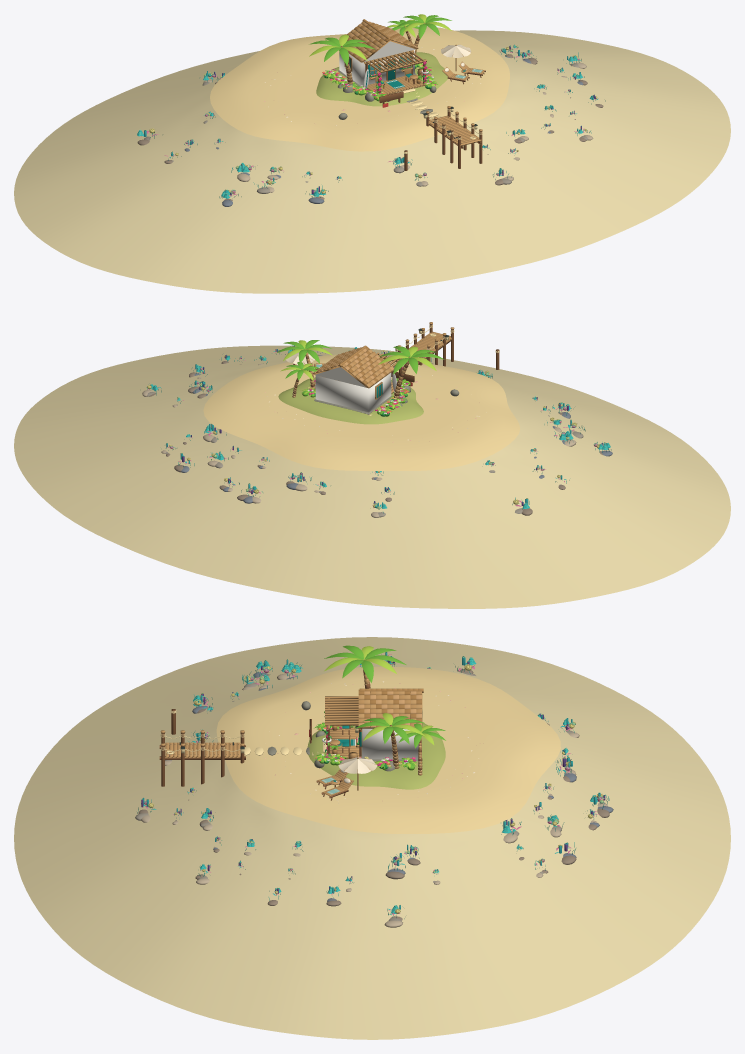
File: atoll_world.glb
3 views of the same model, one above another, from view 1: azimuth 30°, elevation 25°; view 2: azimuth 150°, elevation 25°; view 3: azimuth 270°, elevation 25° (orthographic). The views are drawn at different scales.
Visible parts, largest first — view 1: Submerged sand, Warm lagoon sand, Honey wood, Island ground, Palm leaf, Dark wood, Sun bleached plaster, Palm lime, Coral aqua, Nowsome teal, Sunlit sand, Reef rock sandstone (+1 smaller); view 2: Submerged sand, Warm lagoon sand, Island ground, Sun bleached plaster, Palm leaf, Honey wood, Dark wood, Palm lime, Coral aqua, Reef rock sandstone, Reef rock brown, Coral yellow (+4 smaller); view 3: Submerged sand, Warm lagoon sand, Honey wood, Island ground, Palm leaf, Dark wood, Sun bleached plaster, Palm lime, Coral aqua, Reef rock sandstone, Reef rock brown, Coral yellow (+2 smaller).
Boxes of the visible parts, bbox=[...] form: Submerged sand: bbox=[14, 30, 730, 293]; Warm lagoon sand: bbox=[210, 26, 509, 151]; Honey wood: bbox=[341, 23, 484, 146]; Island ground: bbox=[316, 52, 447, 106]; Palm leaf: bbox=[309, 15, 451, 101]; Dark wood: bbox=[344, 31, 485, 170]; Sun bleached plaster: bbox=[339, 41, 415, 85]; Palm lime: bbox=[309, 14, 451, 98]; Coral aqua: bbox=[137, 45, 598, 198]; Nowsome teal: bbox=[150, 49, 605, 198]; Sunlit sand: bbox=[335, 34, 482, 153]; Reef rock sandstone: bbox=[203, 52, 593, 192]; Submerged sand: bbox=[14, 345, 730, 608]; Warm lagoon sand: bbox=[203, 354, 519, 470]; Island ground: bbox=[278, 377, 423, 424]; Sun bleached plaster: bbox=[315, 367, 391, 412]; Palm leaf: bbox=[276, 340, 444, 416]; Honey wood: bbox=[287, 322, 454, 399]; Dark wood: bbox=[293, 324, 499, 396]; Palm lime: bbox=[280, 340, 436, 413]; Coral aqua: bbox=[150, 345, 610, 508]; Reef rock sandstone: bbox=[142, 353, 576, 517]; Reef rock brown: bbox=[149, 355, 602, 515]; Coral yellow: bbox=[147, 346, 605, 508]; Submerged sand: bbox=[14, 637, 730, 1039]; Warm lagoon sand: bbox=[216, 666, 560, 833]; Honey wood: bbox=[160, 659, 422, 796]; Island ground: bbox=[307, 723, 445, 789]; Palm leaf: bbox=[314, 645, 445, 770]; Dark wood: bbox=[159, 670, 422, 800]; Sun bleached plaster: bbox=[362, 728, 418, 759]; Palm lime: bbox=[314, 646, 434, 767]; Coral aqua: bbox=[141, 657, 600, 914]; Reef rock sandstone: bbox=[141, 673, 607, 927]; Reef rock brown: bbox=[138, 662, 609, 920]; Coral yellow: bbox=[147, 656, 603, 913].
Bounding box in the file's own units: 71.77 × 13.55 × 54.09.
